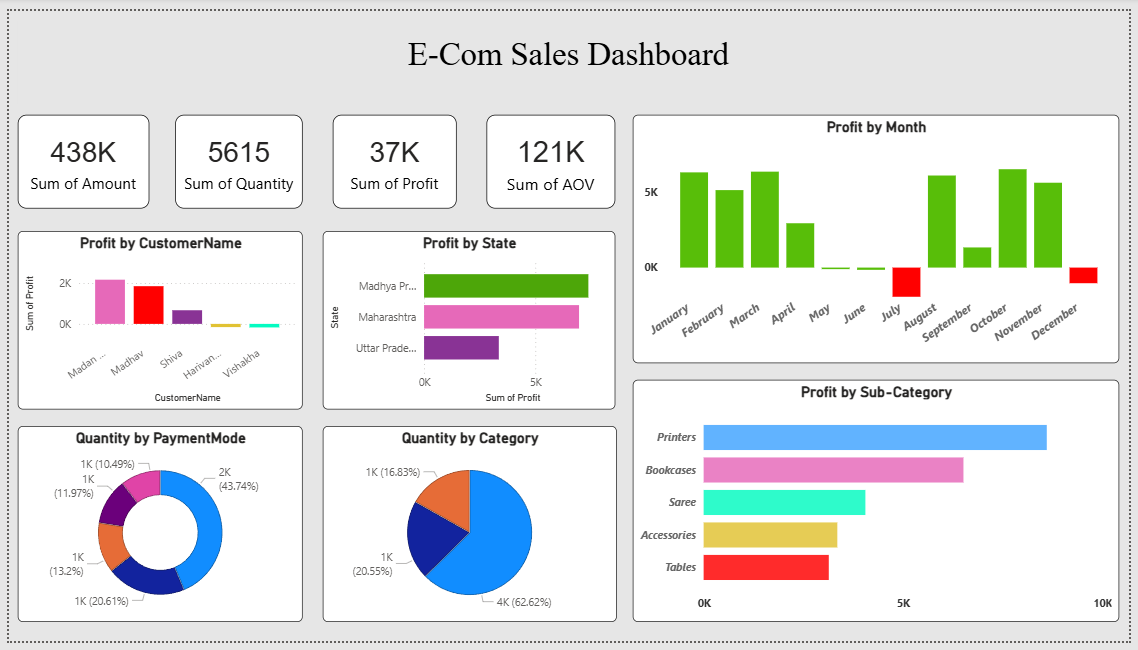

The dashboard page shown, as its layout file describes it:
{"tool":"powerbi","page":{"name":"Page 1","canvas":[1280,720],"ordinal":0},"visuals":[{"type":"textbox","box":[10,11.4,1258.6,94.3],"z":0},{"type":"columnChart","title":"Profit by Month","fields":{"Y":["Details.Profit"],"Category":["Orderss.Order Date.Variation.Date Hierarchy.Month"]},"box":[712.9,118.6,555.7,284.3],"z":1000},{"type":"barChart","title":"Profit by Sub-Category","fields":{"Category":["Details.Sub-Category"],"Y":["Details.Profit"]},"box":[712.9,421.4,555.7,277.1],"z":2000},{"type":"pieChart","title":"Quantity by Category","fields":{"Category":["Details.Category"],"Y":["Details.Quantity"]},"box":[358.6,474.3,335.7,224.3],"z":3000},{"type":"donutChart","title":"Quantity by PaymentMode","fields":{"Category":["Details.PaymentMode"],"Y":["Details.Quantity"]},"box":[10,474.3,325.7,224.3],"z":4000},{"type":"card","fields":{"Values":["Details.Amount"]},"box":[10,118.6,150,107.1],"z":5000},{"type":"card","fields":{"Values":["Details.Quantity"]},"box":[190,118.6,145.7,107.1],"z":6000},{"type":"card","fields":{"Values":["Details.Profit"]},"box":[370,118.6,141.4,107.1],"z":7000},{"type":"card","fields":{"Values":["Details.AOV"]},"box":[545.7,118.6,147.1,107.1],"z":8000},{"type":"barChart","title":"Profit by State","fields":{"Category":["Orderss.State"],"Y":["Details.Profit"]},"box":[358.6,251.4,334.3,204.3],"z":9000},{"type":"columnChart","title":" Profit by CustomerName","fields":{"Category":["Orderss.CustomerName"],"Y":["Details.Profit"]},"box":[10,251.4,325.7,204.3],"z":10000}]}

Visuals, with their boxes in screenshot pixels (x1, y1, x2, y2), scaled from the page's 1280x720 canvas onto the 1138x650 screenshot:
textbox: (left=9, top=10, right=1128, bottom=95)
"Profit by Month" columnChart: (left=634, top=107, right=1128, bottom=364)
"Profit by Sub-Category" barChart: (left=634, top=380, right=1128, bottom=631)
"Quantity by Category" pieChart: (left=319, top=428, right=617, bottom=631)
"Quantity by PaymentMode" donutChart: (left=9, top=428, right=298, bottom=631)
card - Details.Amount: (left=9, top=107, right=142, bottom=204)
card - Details.Quantity: (left=169, top=107, right=298, bottom=204)
card - Details.Profit: (left=329, top=107, right=455, bottom=204)
card - Details.AOV: (left=485, top=107, right=616, bottom=204)
"Profit by State" barChart: (left=319, top=227, right=616, bottom=411)
" Profit by CustomerName" columnChart: (left=9, top=227, right=298, bottom=411)
